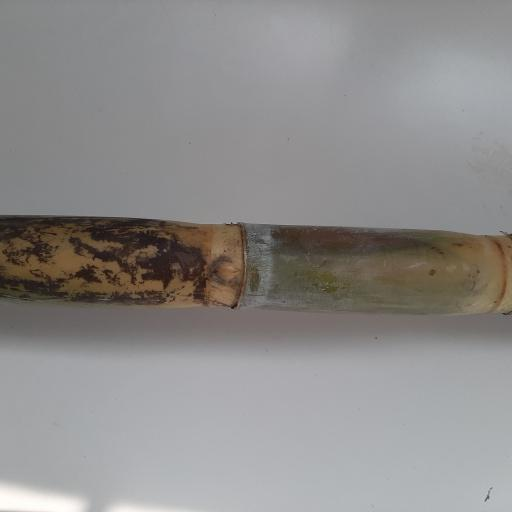Bud: (209, 257, 241, 283)
